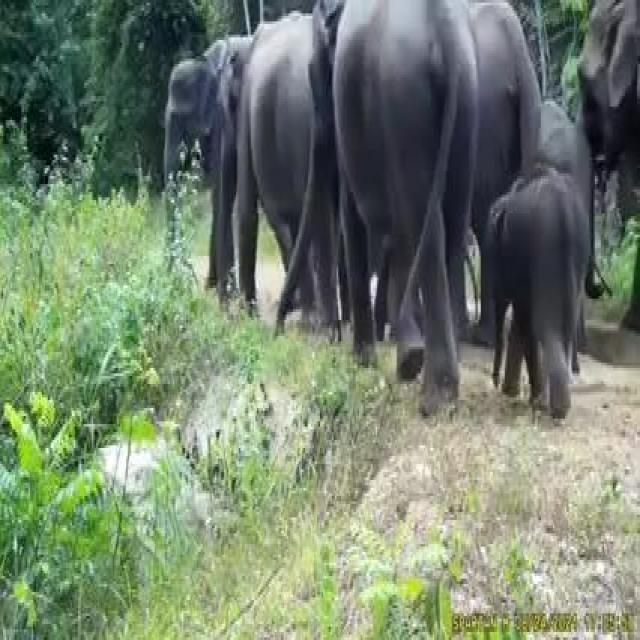Elephant: (273, 0, 477, 325), (444, 5, 544, 334), (484, 174, 584, 416), (245, 5, 331, 278), (153, 32, 249, 201), (557, 0, 640, 161)
